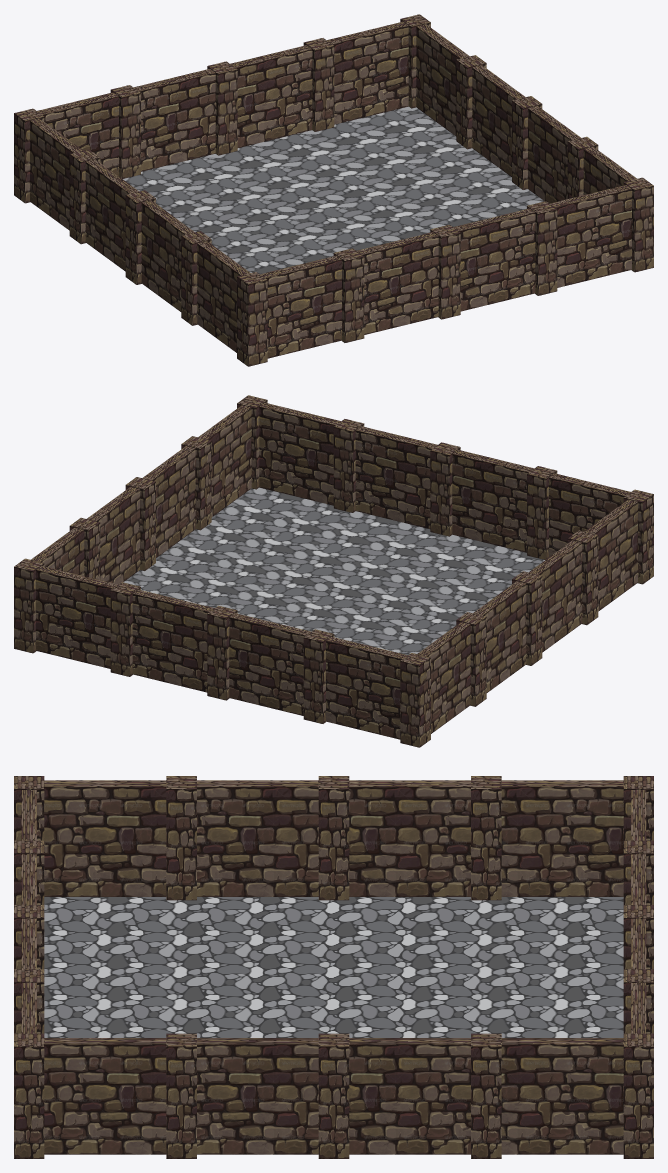
3 renders of one model, top to bottom at view 1: azimuth 30°, elevation 25°; view 2: azimuth 150°, elevation 25°; view 3: azimuth 270°, elevation 25°, orthographic. The views are drawn at different scales.
Visible parts, largest first — view 1: Plane, Cube_3_3, Cube_5_5, Cube_2_3, Cube_4_2, Cube_2, Cube_5_2, Cube_2_4, Cube_3_2, Cube_5_4, Cube_2_6, Cube (+9 smaller); view 2: Plane, Cube_5_5, Cube_3_3, Cube_2_3, Cube_4_2, Cube_4, Cube_5_4, Cube_3_5, Cube_2_6, Cube_5_2, Cube_3_2, Cube_1 (+9 smaller); view 3: Plane, Cube_2_3, Cube_4_2, Cube_5_3, Cube_5, Cube_3_4, Cube_2_5, Cube, Cube_1, Cube_3, Cube_2_2, Cube_3_3 (+9 smaller).
Boxes of the visible parts, x1,y1,x2,y2 form: Plane: (123, 106, 544, 273); Cube_3_3: (260, 185, 631, 358); Cube_5_5: (37, 21, 408, 176); Cube_2_3: (30, 118, 250, 352); Cube_4_2: (416, 24, 636, 203); Cube_2: (237, 272, 267, 366); Cube_5_2: (430, 224, 460, 319); Cube_2_4: (333, 248, 364, 342); Cube_3_2: (527, 201, 557, 295); Cube_5_4: (207, 61, 237, 155); Cube_2_6: (303, 38, 334, 131); Cube: (623, 177, 653, 272); Plane: (123, 487, 544, 654); Cube_5_5: (36, 566, 407, 739); Cube_3_3: (259, 402, 630, 557); Cube_2_3: (417, 499, 637, 733); Cube_4_2: (31, 405, 251, 584); Cube_4: (400, 653, 430, 747); Cube_5_4: (207, 605, 237, 700); Cube_3_5: (303, 629, 334, 723); Cube_2_6: (110, 582, 140, 676); Cube_5_2: (430, 442, 460, 536); Cube_3_2: (333, 419, 364, 512); Cube_1: (14, 558, 44, 653); Plane: (44, 897, 623, 1037); Cube_2_3: (44, 780, 623, 896); Cube_4_2: (44, 1038, 623, 1154); Cube_5_3: (318, 1033, 349, 1158); Cube_5: (318, 776, 349, 900); Cube_3_4: (166, 1033, 196, 1158); Cube_2_5: (471, 1033, 501, 1158); Cube: (14, 1033, 44, 1158); Cube_1: (623, 1033, 653, 1158); Cube_3: (471, 776, 501, 900); Cube_2_2: (166, 776, 196, 900); Cube_3_3: (21, 790, 36, 1033).
Size of the model in its own units: 42 by 8.12 by 42.
21 materials, 21 textured.
